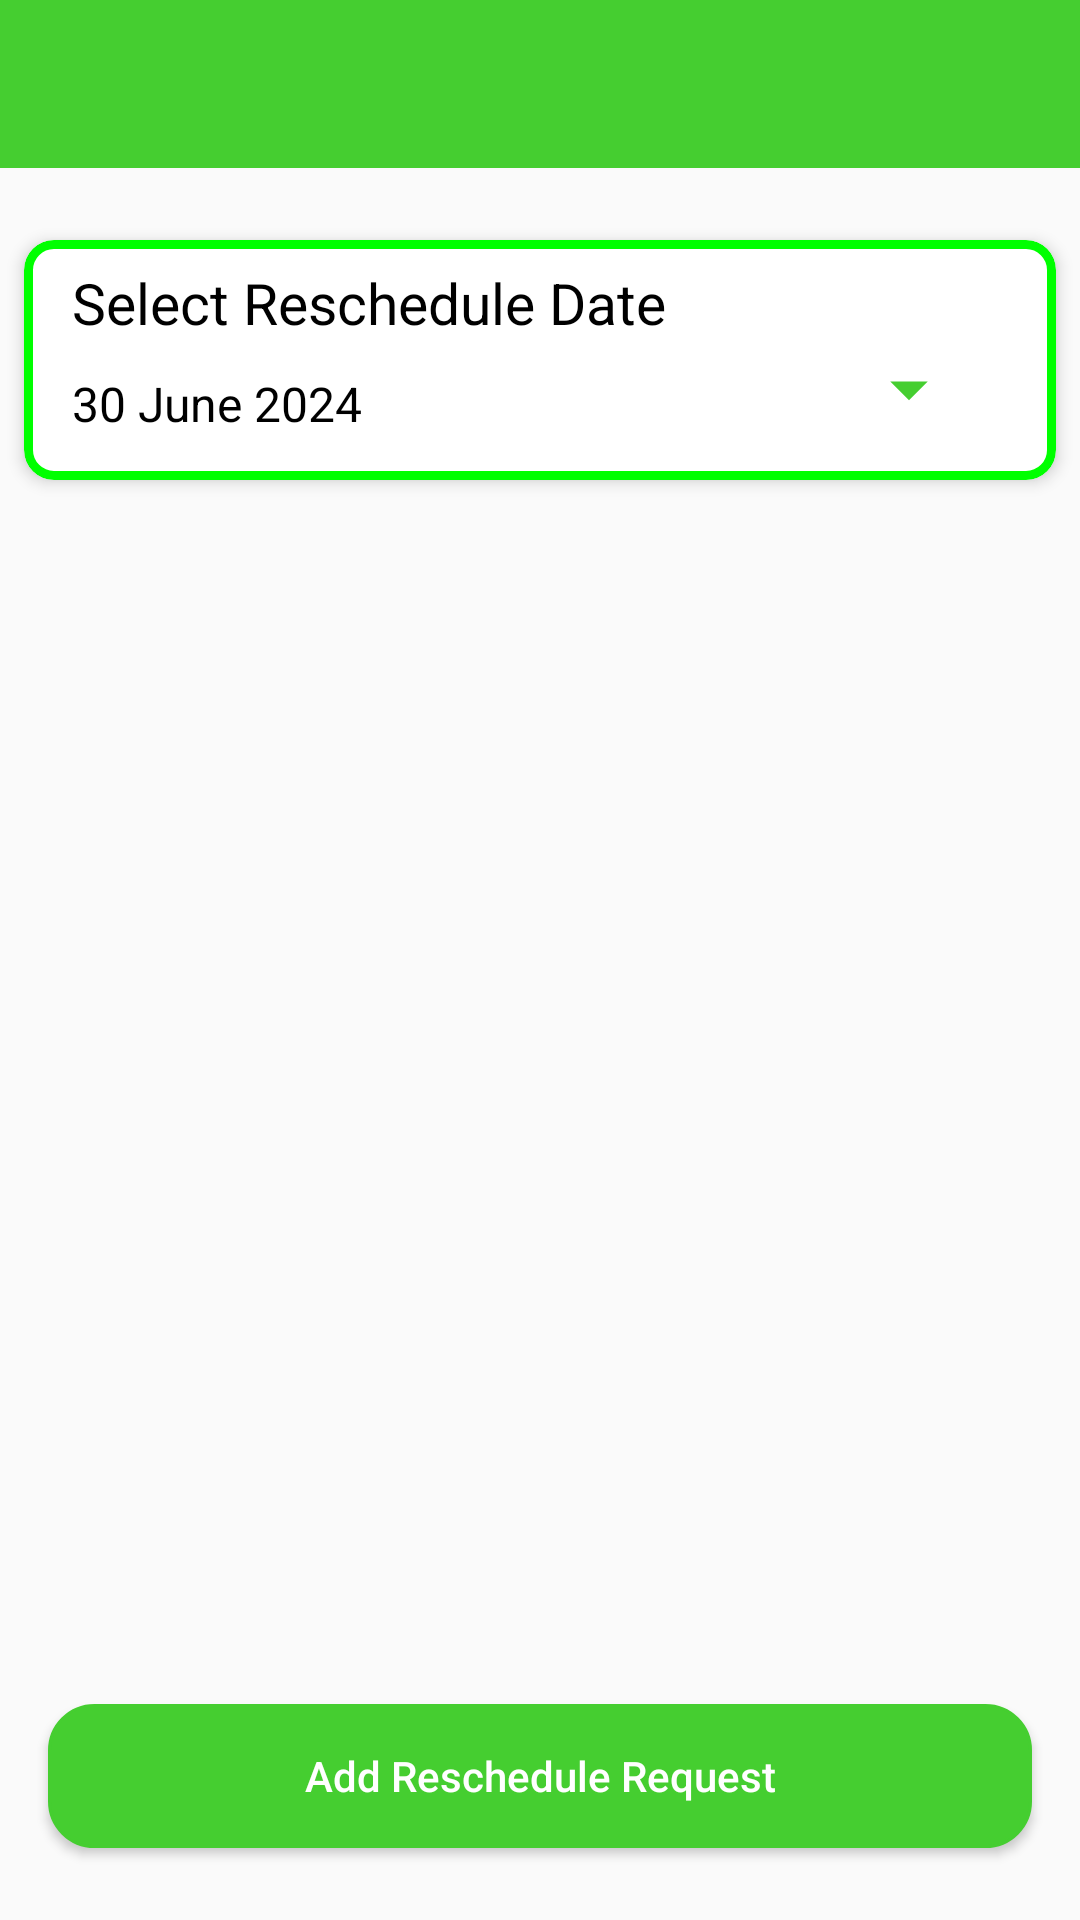

Icon click points for this 1080*1920 phone screenshot, format (x=x, y=y):
spinner arrow: (x=909, y=390)
